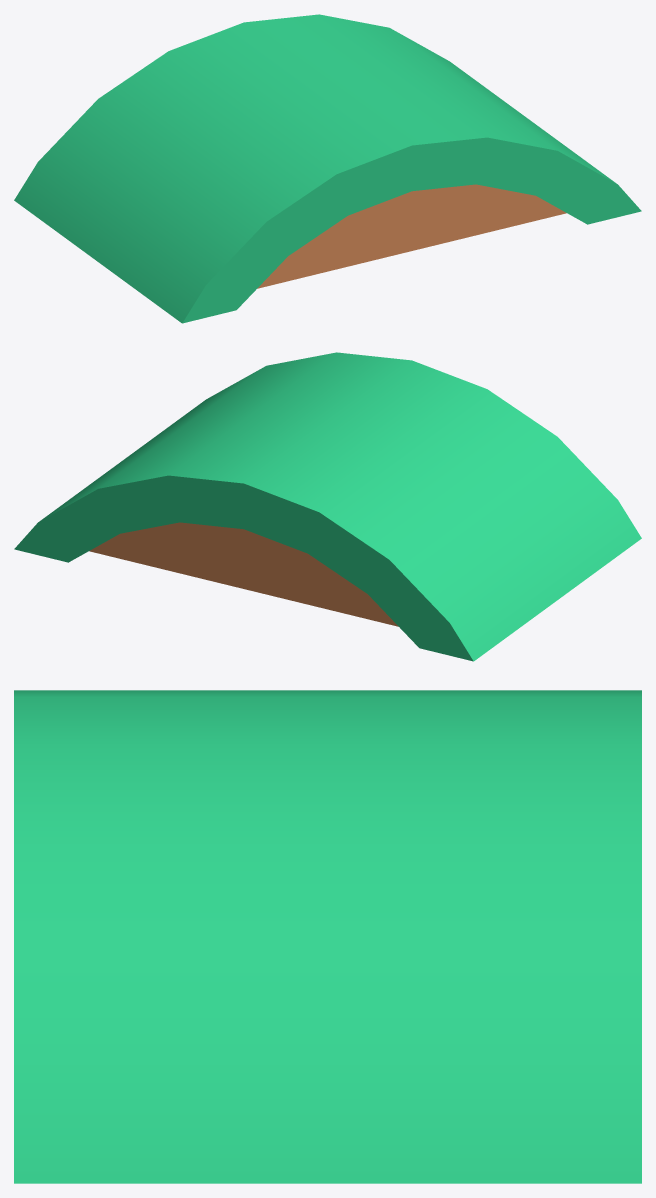
The model's file is blockCurveLow.glb.
3 views of the same model, one above another, from view 1: azimuth 30°, elevation 25°; view 2: azimuth 150°, elevation 25°; view 3: azimuth 270°, elevation 25° (orthographic). The views are drawn at different scales.
Visible parts, largest first — view 1: blockCurveLow; view 2: blockCurveLow; view 3: blockCurveLow.
Boxes of the visible parts, x1=… form: blockCurveLow: x1=14, y1=14, x2=641, y2=323; blockCurveLow: x1=14, y1=352, x2=641, y2=661; blockCurveLow: x1=14, y1=690, x2=641, y2=1183.
Bounding box in the file's own units: 1.58 × 0.4 × 1.
